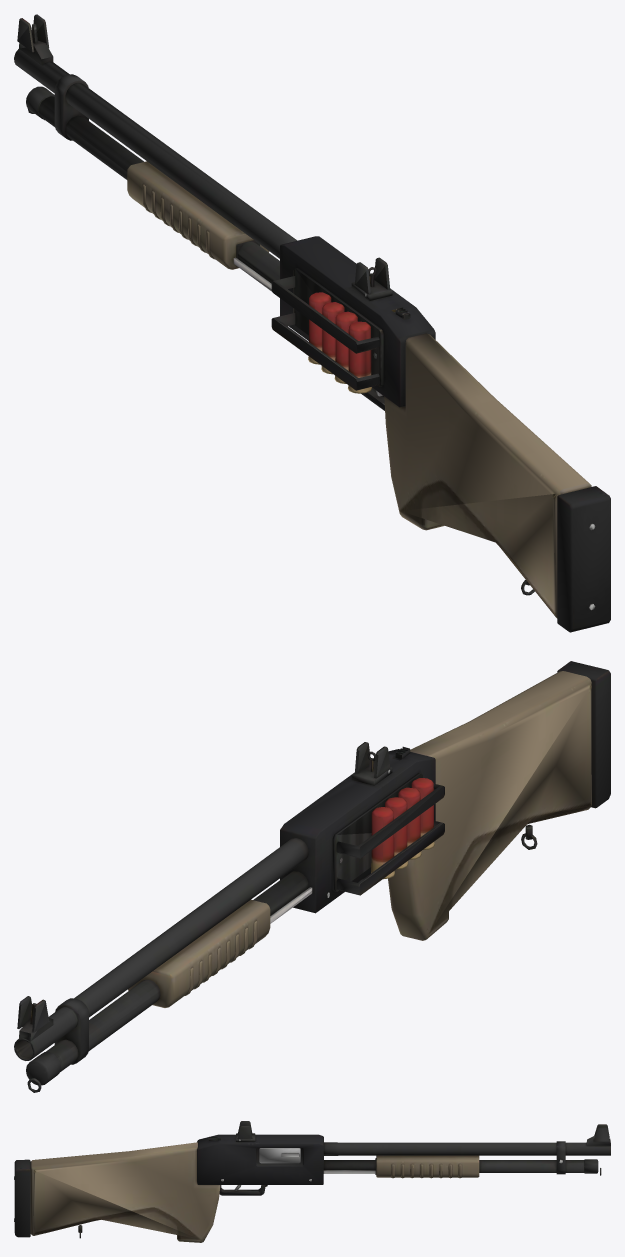
3 views of the same model, one above another, from view 1: azimuth 30°, elevation 25°; view 2: azimuth 150°, elevation 25°; view 3: azimuth 270°, elevation 25° (orthographic). The views are drawn at different scales.
Parts seen in each view (by area): view 1: bk101_lod; view 2: bk101_lod; view 3: bk101_lod.
Boxes of the visible parts, x1,y1,x2,y2 form: bk101_lod: [14, 14, 610, 632]; bk101_lod: [14, 661, 610, 1092]; bk101_lod: [14, 1121, 610, 1242].
Size of the model in its own units: 0.0723 by 0.222 by 1.03.
1 material, 1 textured.
